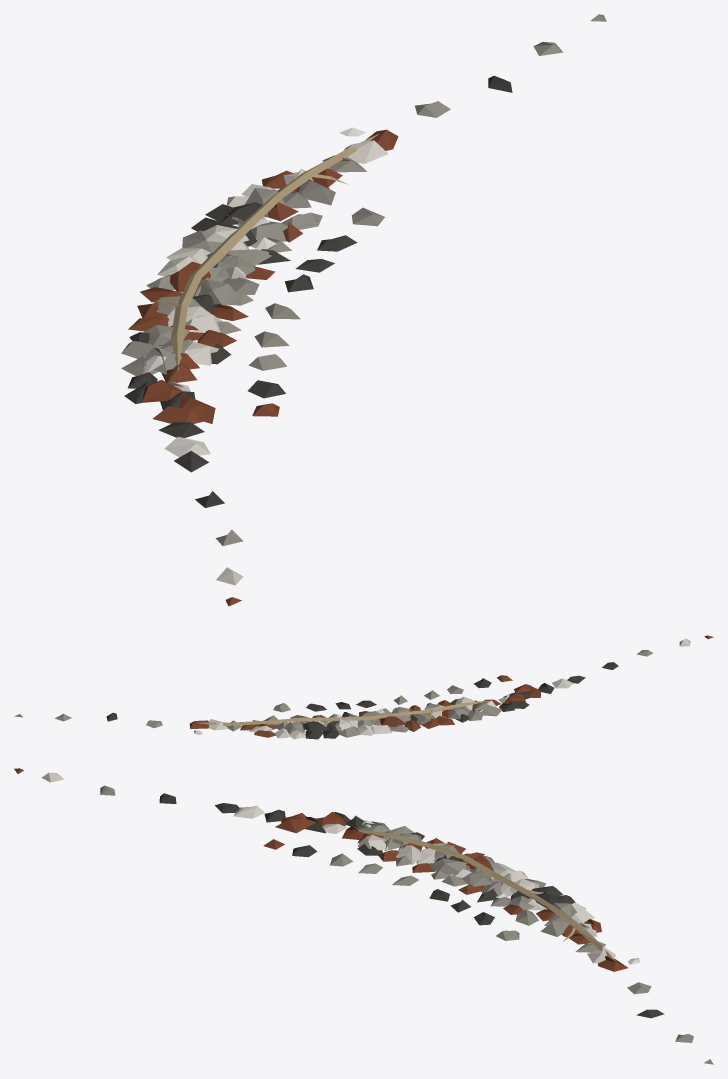
File: shingle-tile-fa005e.glb
3 renders of one model, top to bottom at view 1: azimuth 30°, elevation 25°; view 2: azimuth 150°, elevation 25°; view 3: azimuth 270°, elevation 25°, orthographic. The views are drawn at different scales.
Visible parts, largest first — view 1: shingle-tile-fa005e; view 2: shingle-tile-fa005e; view 3: shingle-tile-fa005e.
Boxes of the visible parts, x1,y1,x2,y2 form: shingle-tile-fa005e: [121, 14, 606, 606]; shingle-tile-fa005e: [14, 635, 713, 739]; shingle-tile-fa005e: [14, 768, 713, 1064].
Bounding box in the file's own units: 4 × 0.0794 × 4.
